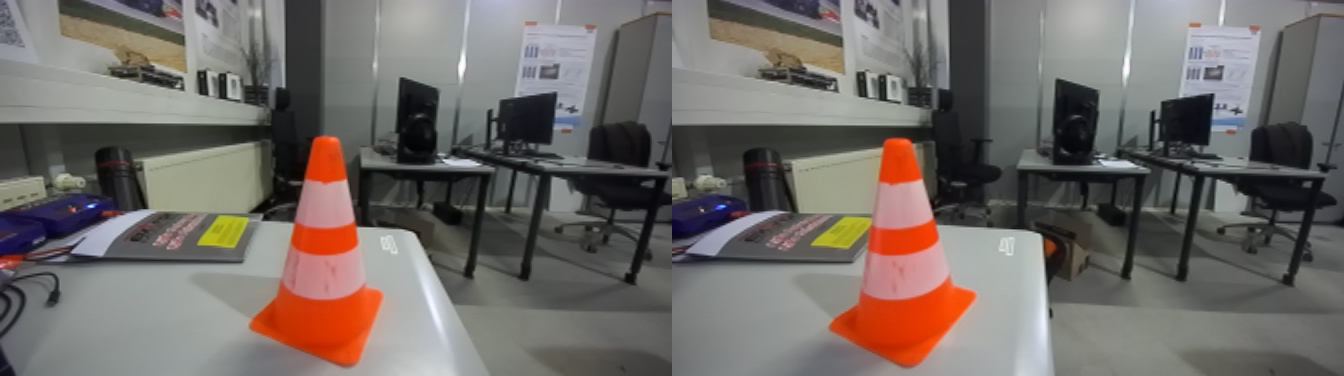cone: (824, 134, 982, 370), (248, 141, 389, 374)
